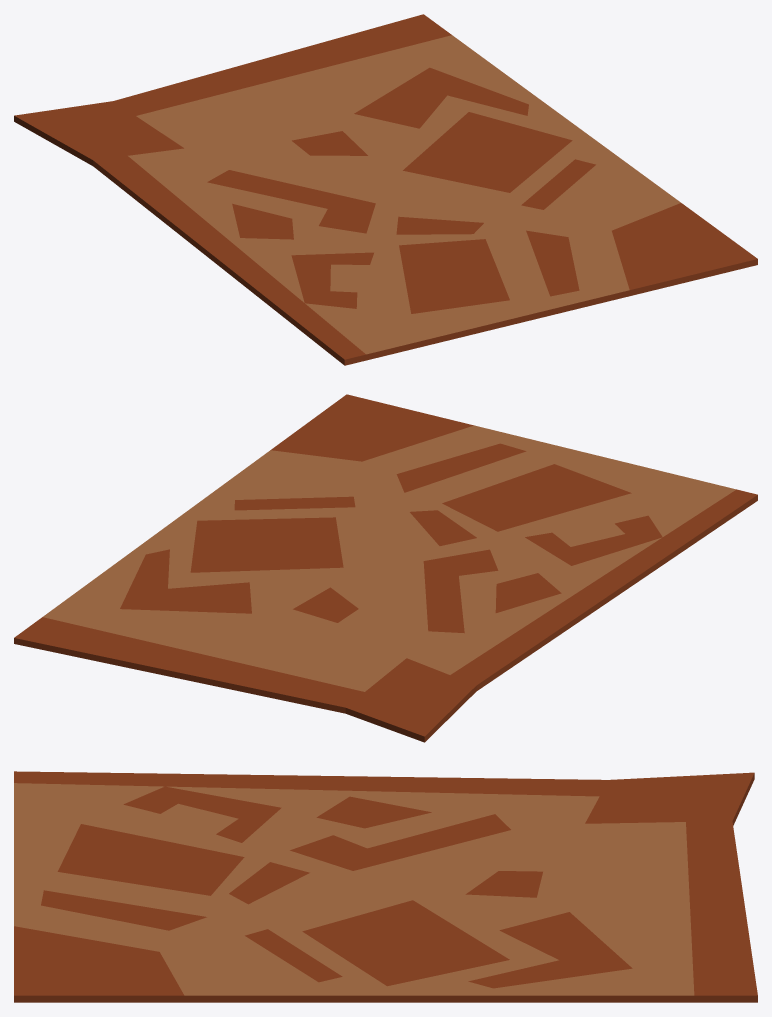
The model's file is brown_carpet_section.glb.
The picture shows the model from 3 angles, top to bottom: view 1: azimuth 30°, elevation 25°; view 2: azimuth 150°, elevation 25°; view 3: azimuth 270°, elevation 25°; orthographic projection. The views are drawn at different scales.
Parts seen in each view (by area): view 1: cloth; view 2: cloth; view 3: cloth.
Part boxes in pixels (box(x1,y1,x2,y2)): cloth: box(14, 14, 757, 365); cloth: box(14, 394, 757, 742); cloth: box(14, 771, 757, 1002).
Bounding box in the file's own units: 0.5883 × 0.00825 × 0.8245.
